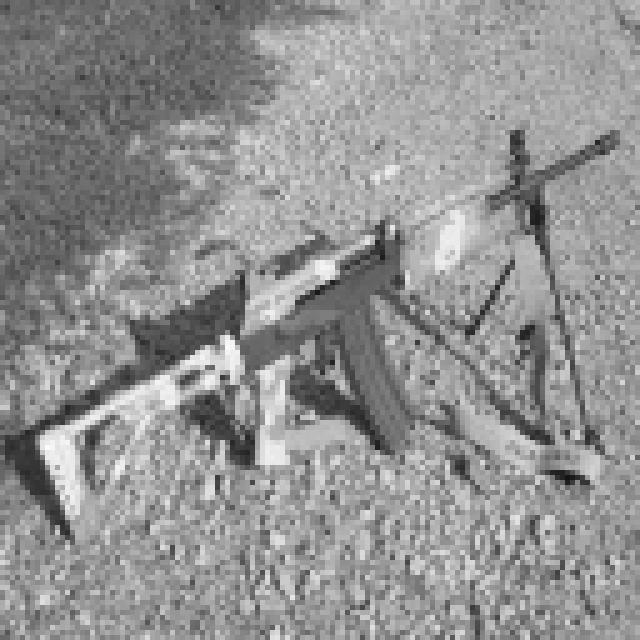Rifle: (0, 116, 640, 549)
